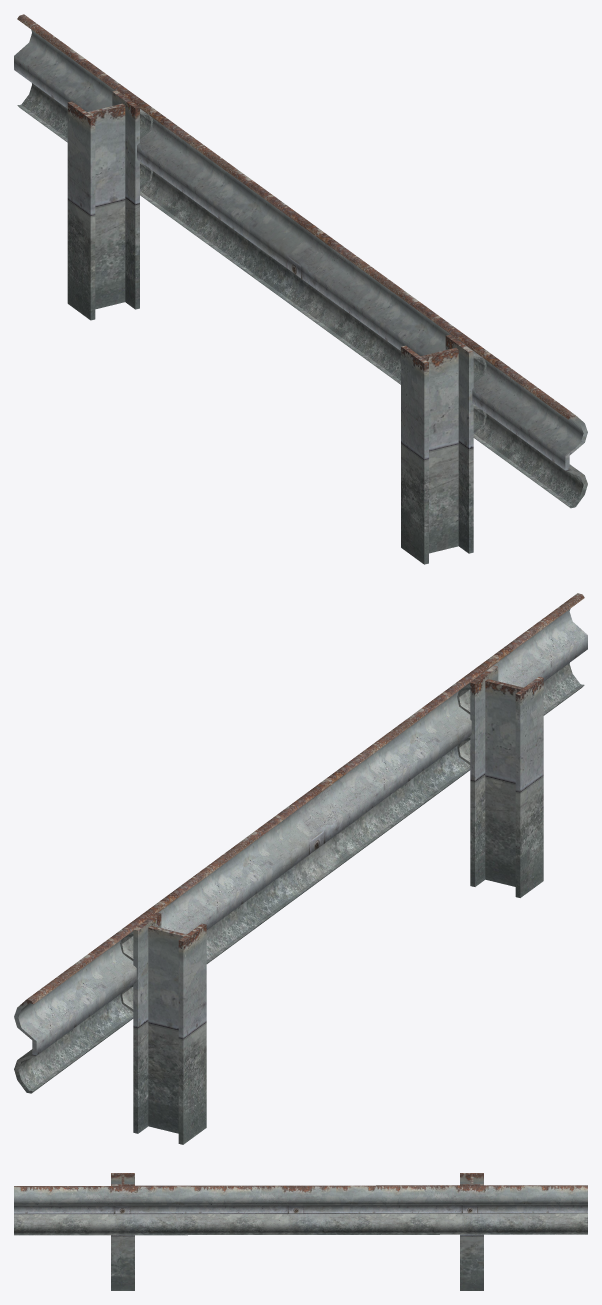
The model's file is CrashBarrier.fbx.
3 renders of one model, top to bottom at view 1: azimuth 30°, elevation 25°; view 2: azimuth 150°, elevation 25°; view 3: azimuth 270°, elevation 25°, orthographic. The views are drawn at different scales.
Visible parts, largest first — view 1: CrashBarrier; view 2: CrashBarrier; view 3: CrashBarrier.
Part boxes in pixels (x1,y1,x2,y2): CrashBarrier: [14, 14, 587, 564]; CrashBarrier: [14, 593, 587, 1144]; CrashBarrier: [14, 1173, 587, 1290].
Bounding box in the file's own units: 37.46 × 102 × 500.
